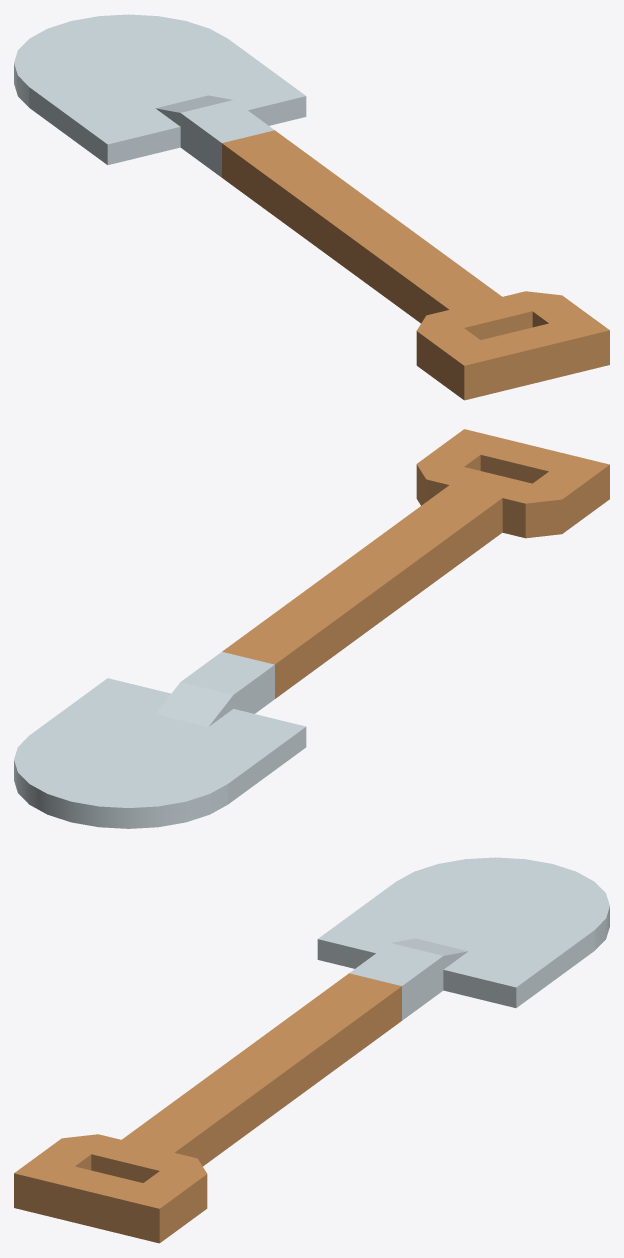
Rendered from shovel.fbx.
3 renders of one model, top to bottom at view 1: azimuth 30°, elevation 25°; view 2: azimuth 150°, elevation 25°; view 3: azimuth 330°, elevation 25°, orthographic.
Visible parts, largest first — view 1: shovel; view 2: shovel; view 3: shovel.
Boxes of the visible parts, <box> form: shovel: <box>14,14,609,400</box>; shovel: <box>14,429,609,828</box>; shovel: <box>14,857,609,1243</box>.
Size of the model in its own units: 1.92 by 0.32 by 7.8.
